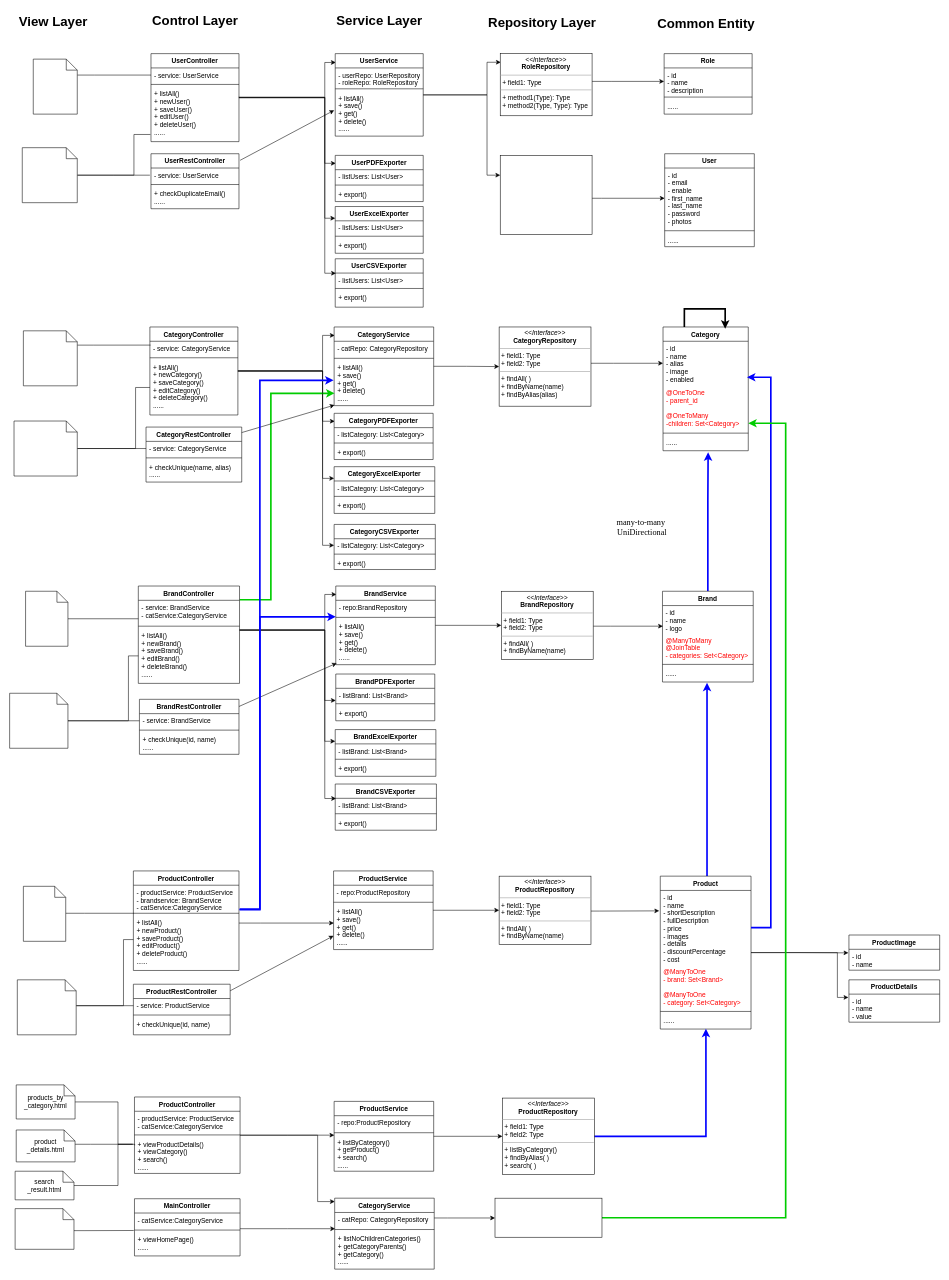
This 949x1280 diagram has some shape labels left out. The centre of each missing label's shape, as x and y in pixels:
"<<Interface>> CategoryRepository + findAllEnabled(): List<Category>" belongs at (548,1217).
"<<Interface>> UserRepository + field1: Type + findAll( ) + getUserByEmail(Email)" belongs at (546,195).
"brand_form.html" belongs at (38,720).
"brands.html" belongs at (46,618).
"categories.html" belongs at (50,358).
"category_form.html" belongs at (45,448).
"index.html" belongs at (44,1228).
"product_form.html" belongs at (46,1007).
"products.html" belongs at (44,913).
"user_form.html" belongs at (49,175).
"users.html" belongs at (55,86).
